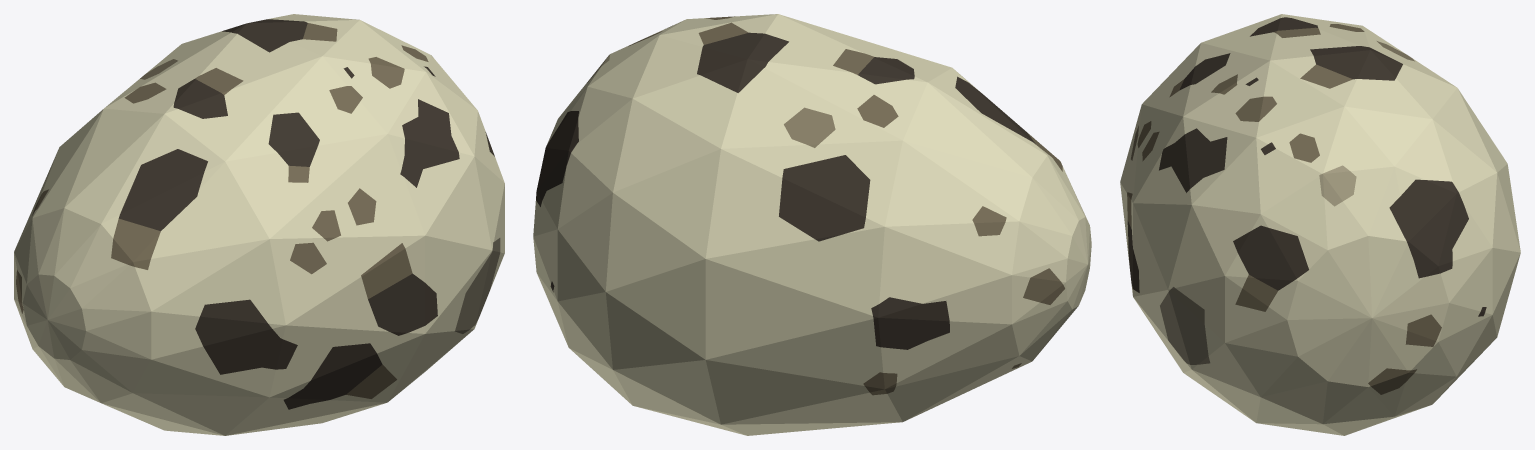
The model's file is manutara-egg-d257f8.glb.
3 views of the same model, side by side, from view 1: azimuth 30°, elevation 25°; view 2: azimuth 150°, elevation 25°; view 3: azimuth 270°, elevation 25° (orthographic). The views are drawn at different scales.
Visible parts, largest first — view 1: egg; view 2: egg; view 3: egg.
Boxes of the visible parts, x1,y1,x2,y2 form: egg: [14, 14, 504, 435]; egg: [533, 14, 1091, 435]; egg: [1120, 14, 1520, 435].
Size of the model in its own units: 0.0511 by 0.038 by 0.0394.
